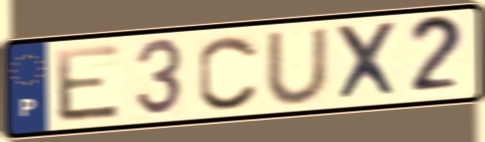2: (404, 13, 469, 101)
3: (131, 35, 186, 122)
C: (195, 32, 262, 113)
E: (52, 41, 124, 125)
U: (262, 25, 332, 107)
X: (331, 19, 404, 104)
